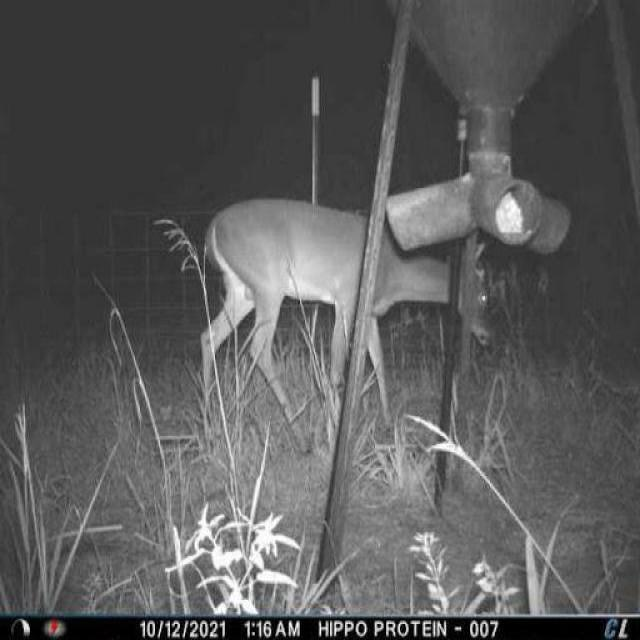deer: (192, 183, 496, 465)
